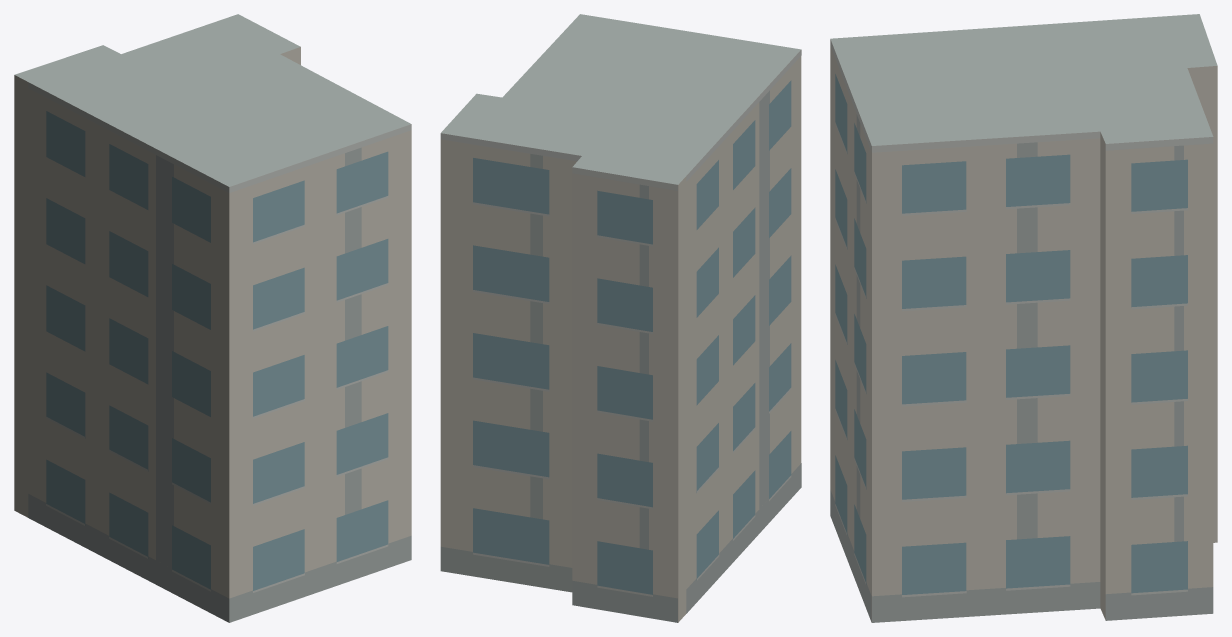
File: survey-upis-32498276.glb
The picture shows the model from 3 angles, left to right: view 1: azimuth 30°, elevation 25°; view 2: azimuth 150°, elevation 25°; view 3: azimuth 270°, elevation 25°; orthographic projection. The views are drawn at different scales.
Visible parts, largest first — view 1: survey-upis-32498276.tmp; view 2: survey-upis-32498276.tmp; view 3: survey-upis-32498276.tmp.
Part boxes in pixels (x1=…): survey-upis-32498276.tmp: x1=14, y1=14, x2=411, y2=622; survey-upis-32498276.tmp: x1=440, y1=14, x2=801, y2=622; survey-upis-32498276.tmp: x1=830, y1=14, x2=1217, y2=622.
Size of the model in its own units: 10.33 by 17.37 by 12.8.
